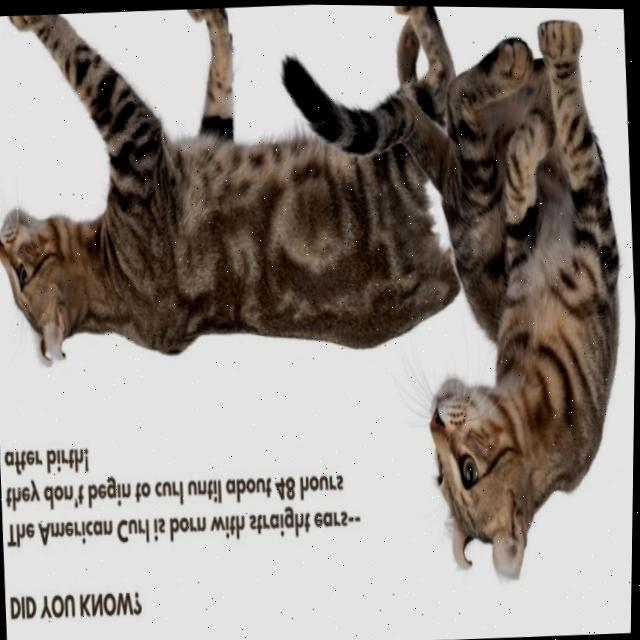American Curl: (0, 0, 472, 383), (404, 7, 640, 593)
